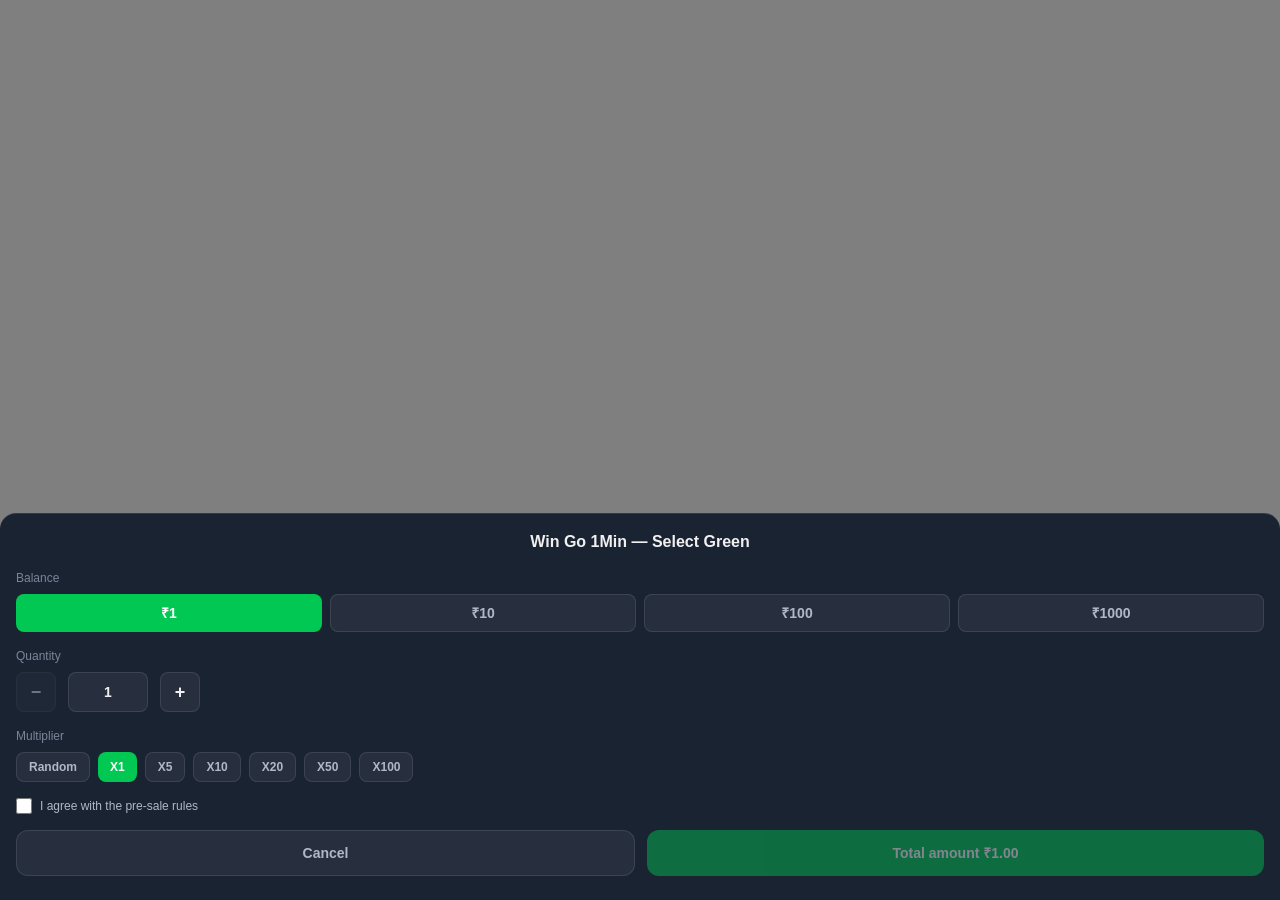
Test case: BetConfirmationSheet › decrements quantity when minus button is clicked
First increase to 2, then decrease back to 1
Click the button named "increase quantity": coordinates (180, 692) [160, 672, 200, 712]
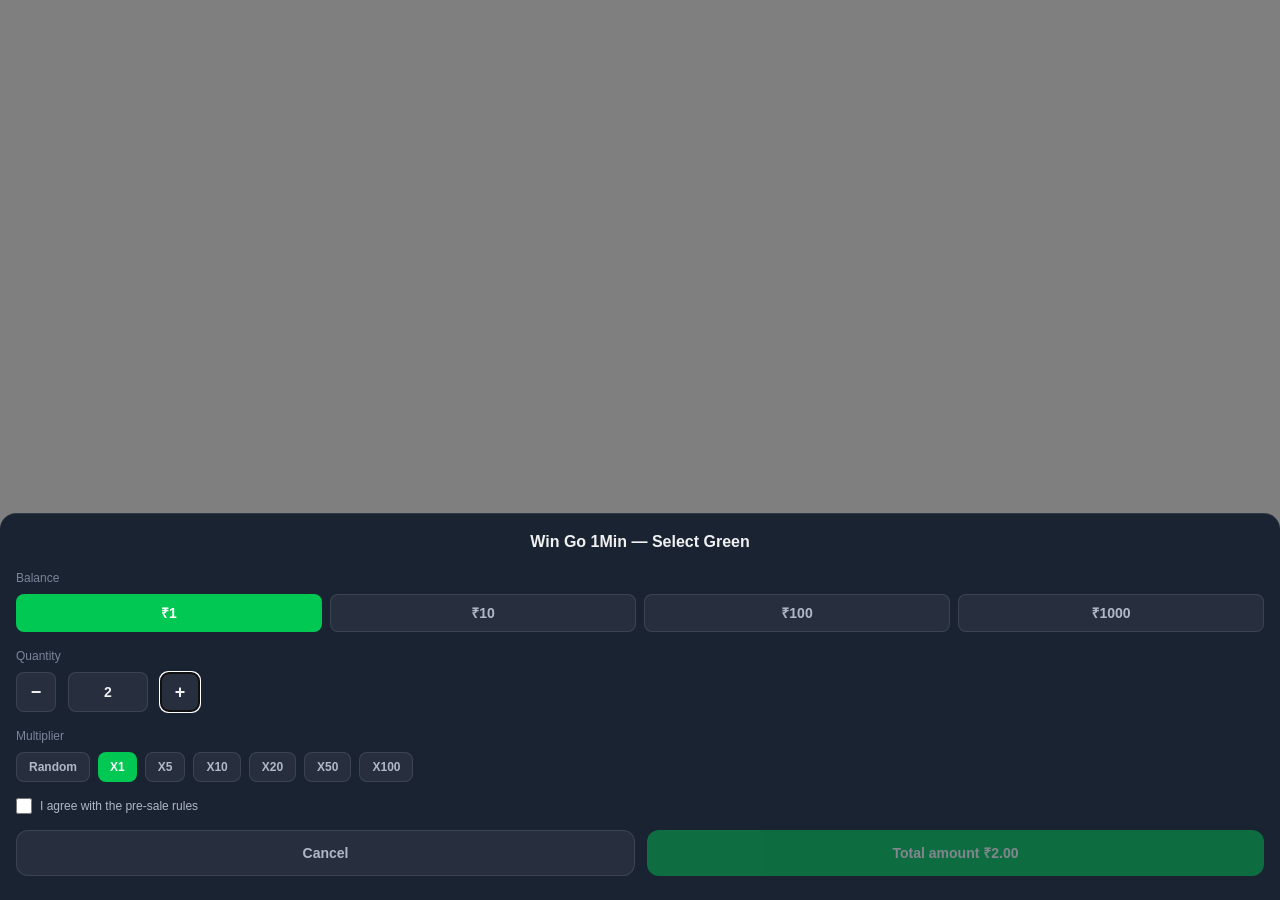
Click the button named "decrease quantity": coordinates (36, 692) [16, 672, 56, 712]
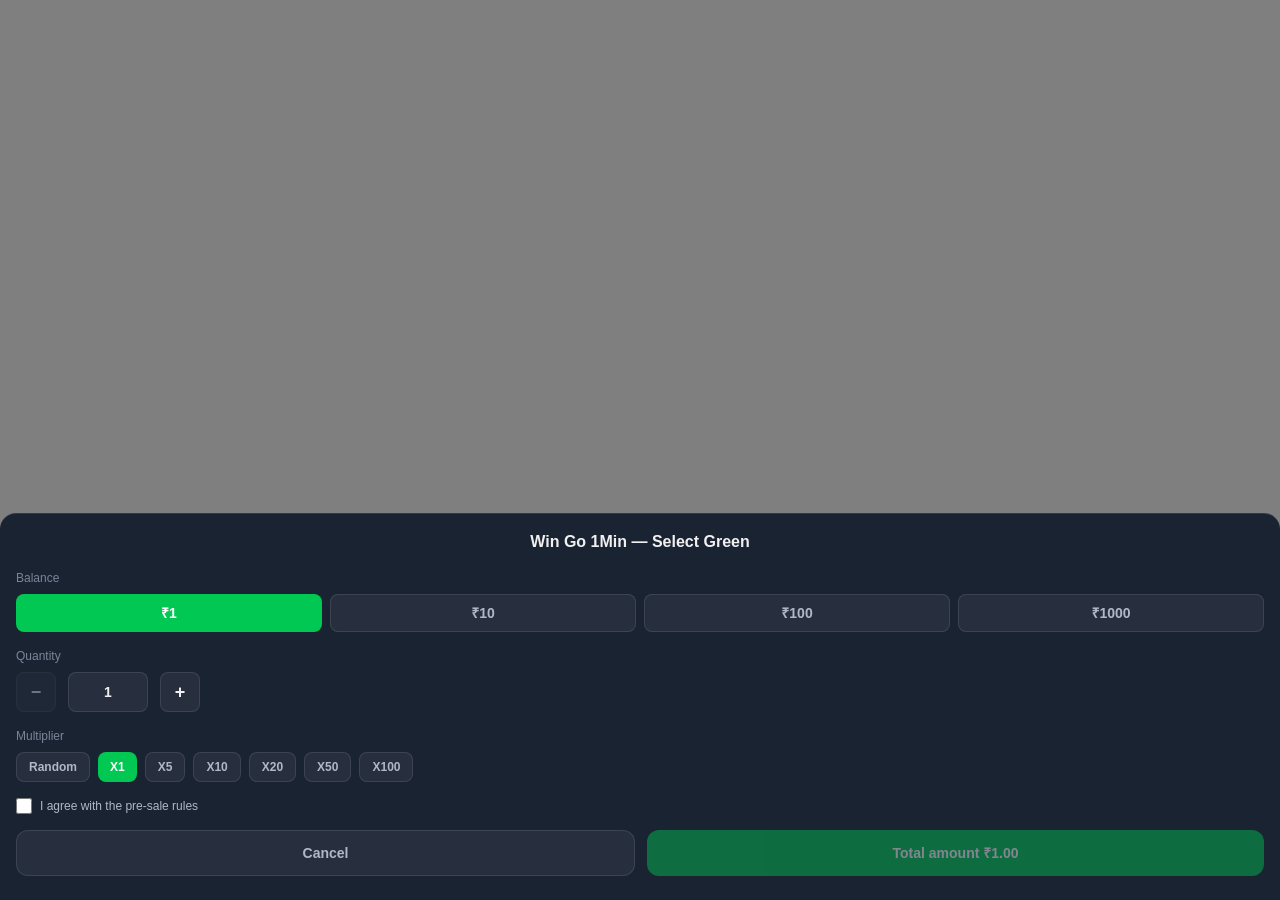
Check: the number field with test id "quantity-input" holds "1", box [68, 672, 148, 712]
